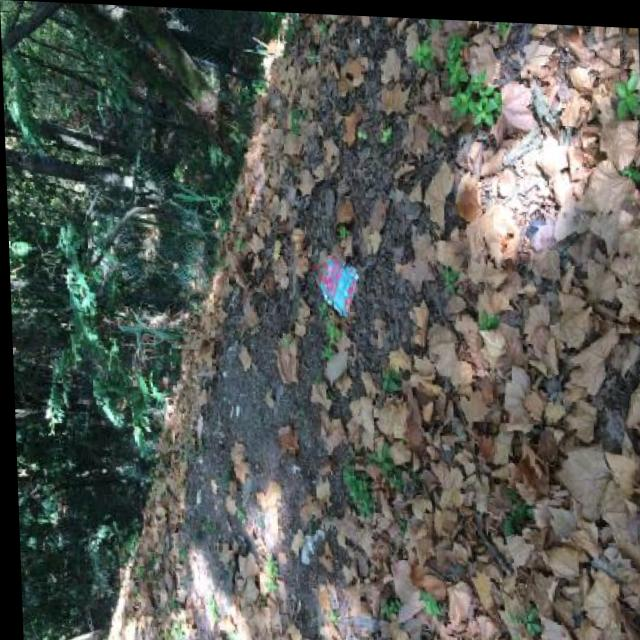cardboard: (320, 254, 362, 319)
